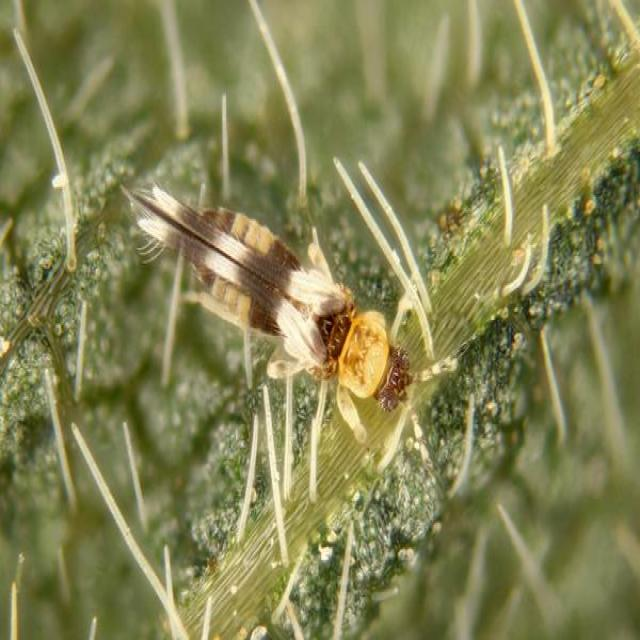Thrip-Adult-: (104, 167, 414, 424)
